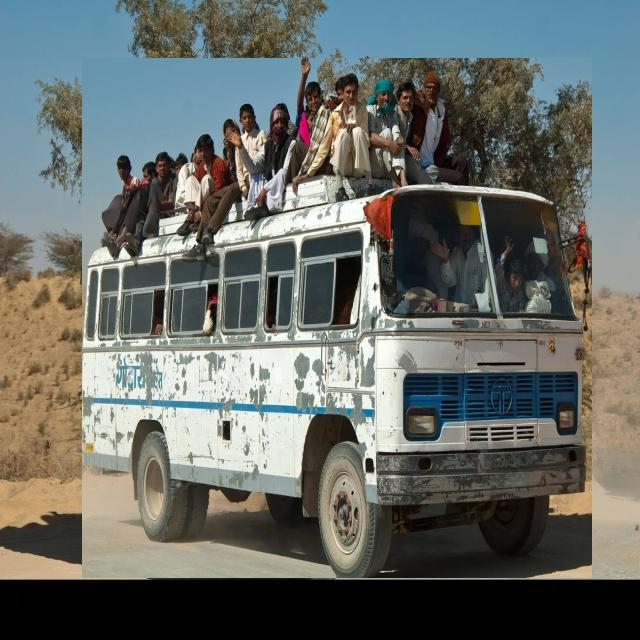bus: (82, 58, 591, 578)
